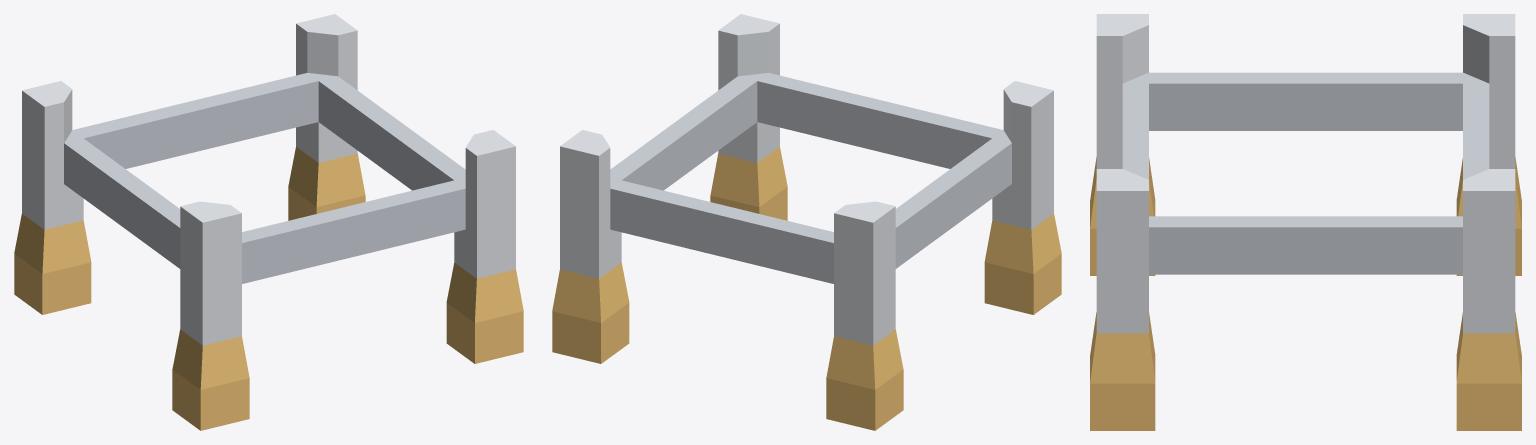
Rendered from supports_low.glb.
The picture shows the model from 3 angles, left to right: view 1: azimuth 30°, elevation 25°; view 2: azimuth 150°, elevation 25°; view 3: azimuth 270°, elevation 25°; orthographic projection. The views are drawn at different scales.
Visible parts, largest first — view 1: supports_low; view 2: supports_low; view 3: supports_low.
Boxes of the visible parts, x1,y1,x2,y2 form: supports_low: (14,14,523,430); supports_low: (552,14,1061,430); supports_low: (1090,14,1521,430).
Bounding box in the file's own units: 0.825 × 0.5 × 0.825.
